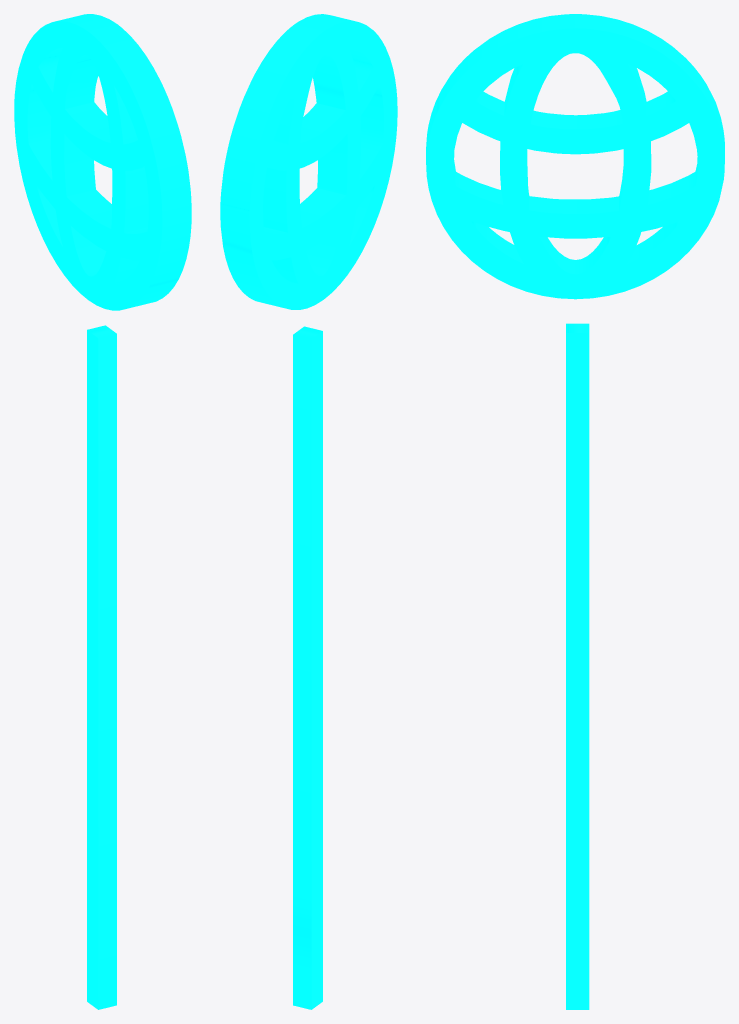
Rendered from status-connected-play.glb.
3 renders of one model, left to right at view 1: azimuth 30°, elevation 25°; view 2: azimuth 150°, elevation 25°; view 3: azimuth 270°, elevation 25°, orthographic.
Visible parts, largest first — view 1: Curve.018, Curve.019, Curve.017; view 2: Curve.018, Curve.019, Curve.017; view 3: Curve.018, Curve.017, Curve.019.
Part boxes in pixels (box(x1,y1,x2,y2)): Curve.018: box(14, 14, 191, 310); Curve.019: box(87, 325, 116, 1009); Curve.017: box(50, 24, 148, 302); Curve.018: box(220, 14, 397, 309); Curve.019: box(293, 326, 322, 1009); Curve.017: box(263, 23, 360, 302); Curve.018: box(426, 14, 724, 299); Curve.017: box(500, 20, 651, 298); Curve.019: box(566, 323, 589, 1009).
Size of the model in its own units: 0.0313 by 0.9952 by 0.2738.
